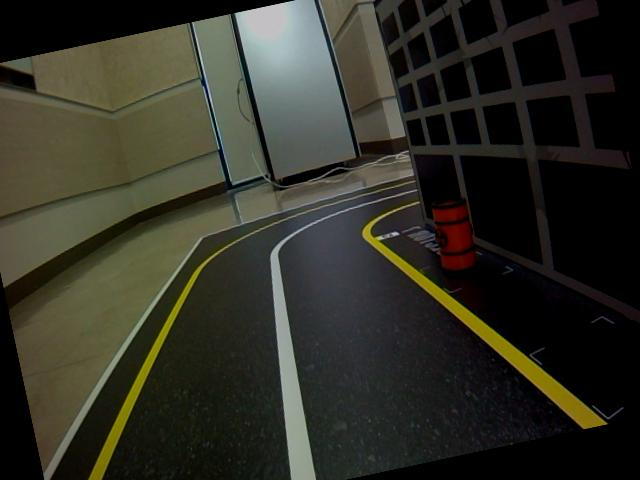Hazmat: (422, 188, 487, 280)
